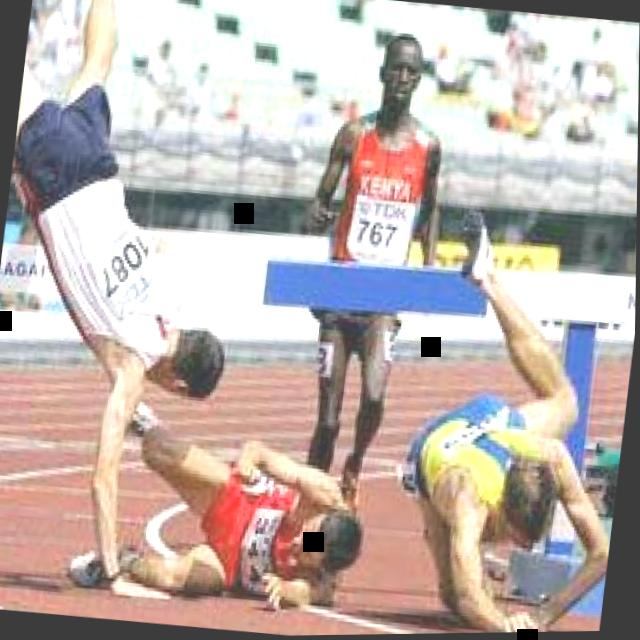Fall-Detected: (0, 0, 287, 555)
